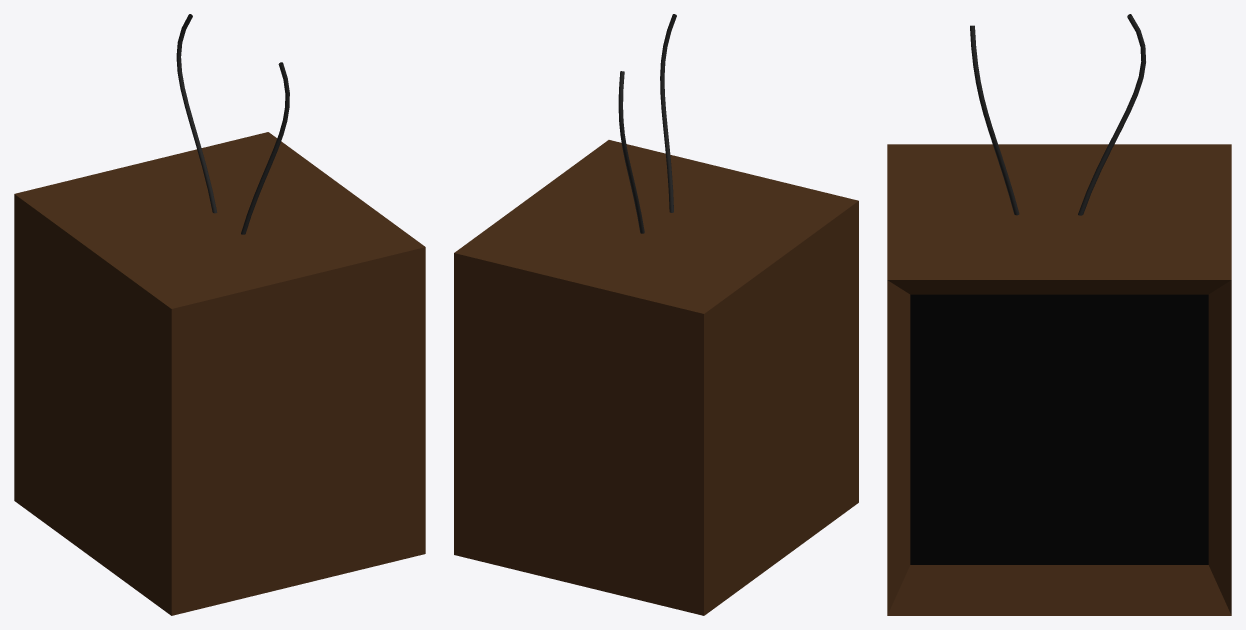
3 renders of one model, left to right at view 1: azimuth 30°, elevation 25°; view 2: azimuth 150°, elevation 25°; view 3: azimuth 270°, elevation 25°, orthographic. The views are drawn at different scales.
Visible parts, largest first — view 1: Cube, BézierCurve, BézierCurve.001; view 2: Cube, BézierCurve.001, BézierCurve; view 3: Cube, BézierCurve, BézierCurve.001.
Part boxes in pixels (x1,y1,x2,y2): Cube: [14, 132, 425, 615]; BézierCurve: [176, 14, 217, 213]; BézierCurve.001: [241, 62, 289, 234]; Cube: [454, 140, 858, 615]; BézierCurve.001: [660, 14, 676, 212]; BézierCurve: [618, 71, 644, 233]; Cube: [887, 144, 1231, 615]; BézierCurve: [1078, 14, 1145, 215]; BézierCurve.001: [970, 25, 1019, 215].
Bounding box in the file's own units: 388 × 712 × 416.
